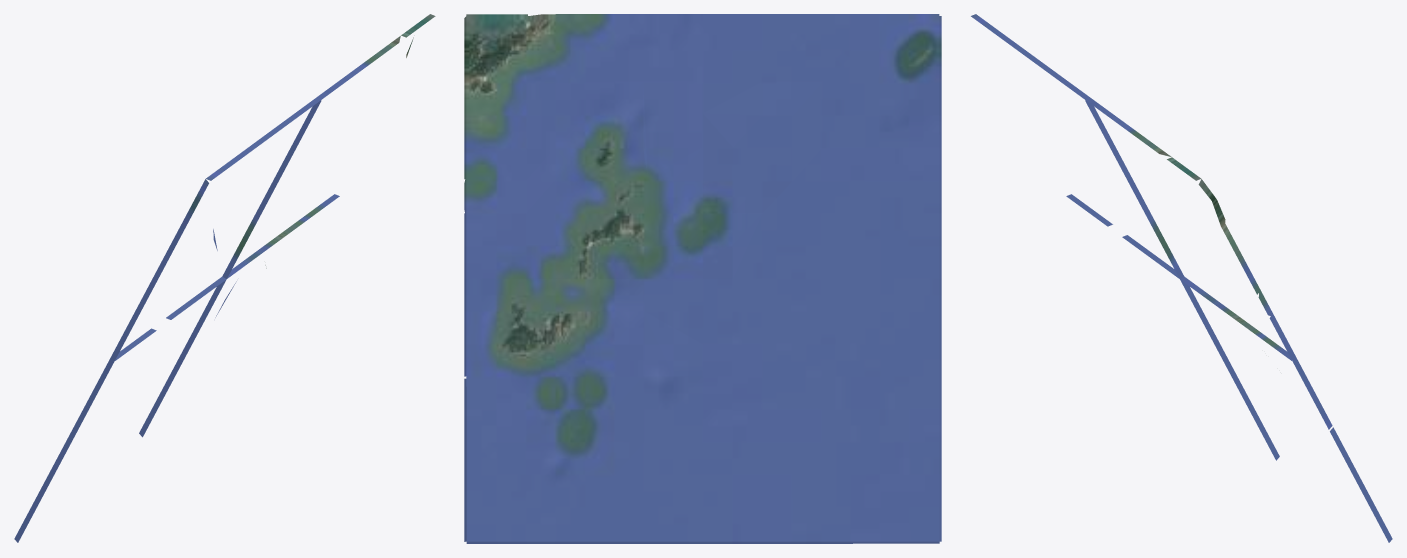
3 renders of one model, left to right at view 1: azimuth 30°, elevation 25°; view 2: azimuth 150°, elevation 25°; view 3: azimuth 270°, elevation 25°, orthographic. The views are drawn at different scales.
Bounding box in the file's own units: 39515 × 35523 × 33091.
Materials: 1 (1 with a texture image).
